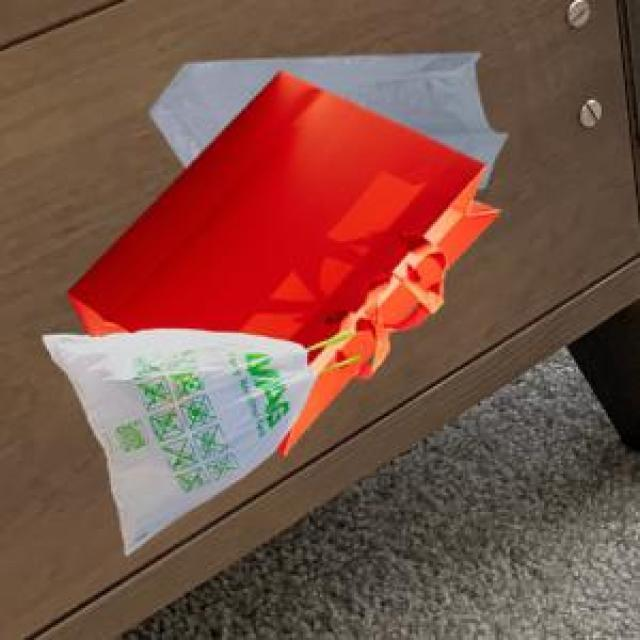paper: (64, 68, 495, 450)
